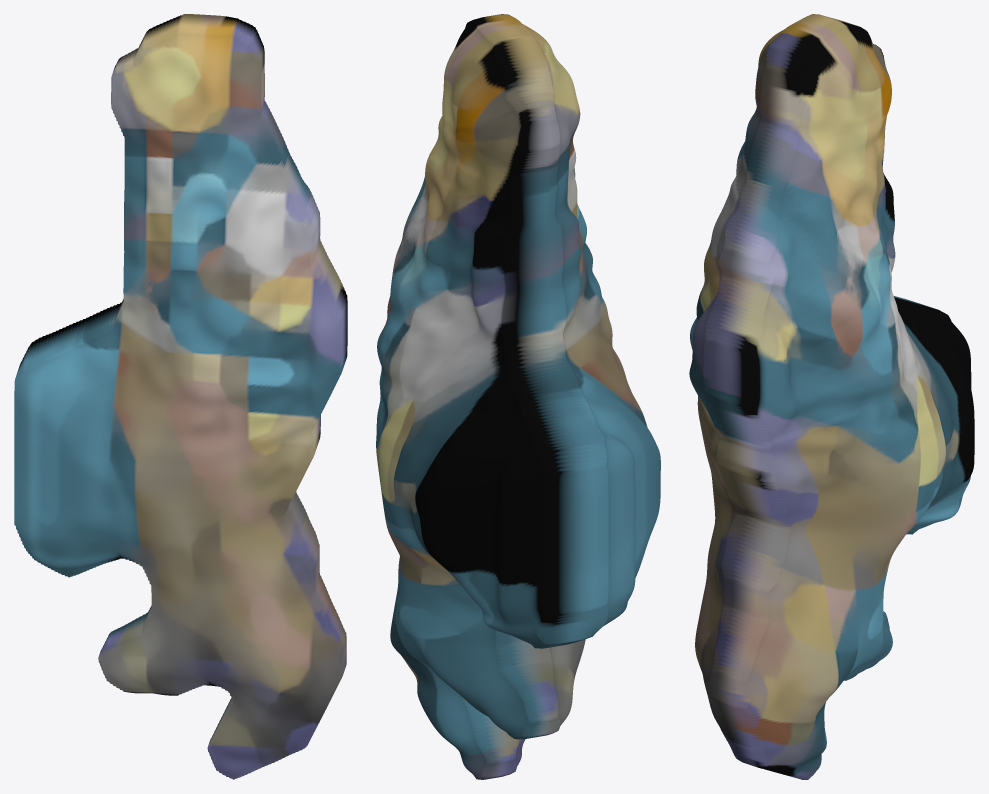
Rendered from engineer.glb.
3 renders of one model, left to right at view 1: azimuth 30°, elevation 25°; view 2: azimuth 150°, elevation 25°; view 3: azimuth 270°, elevation 25°, orthographic. The views are drawn at different scales.
Parts seen in each view (by area): view 1: allied_engineer; view 2: allied_engineer; view 3: allied_engineer.
Boxes of the visible parts, x1,y1,x2,y2 form: allied_engineer: (14,14,347,779); allied_engineer: (376,14,660,779); allied_engineer: (689,14,974,779).
Size of the model in its own units: 0.8392 by 2.23 by 0.7751.
